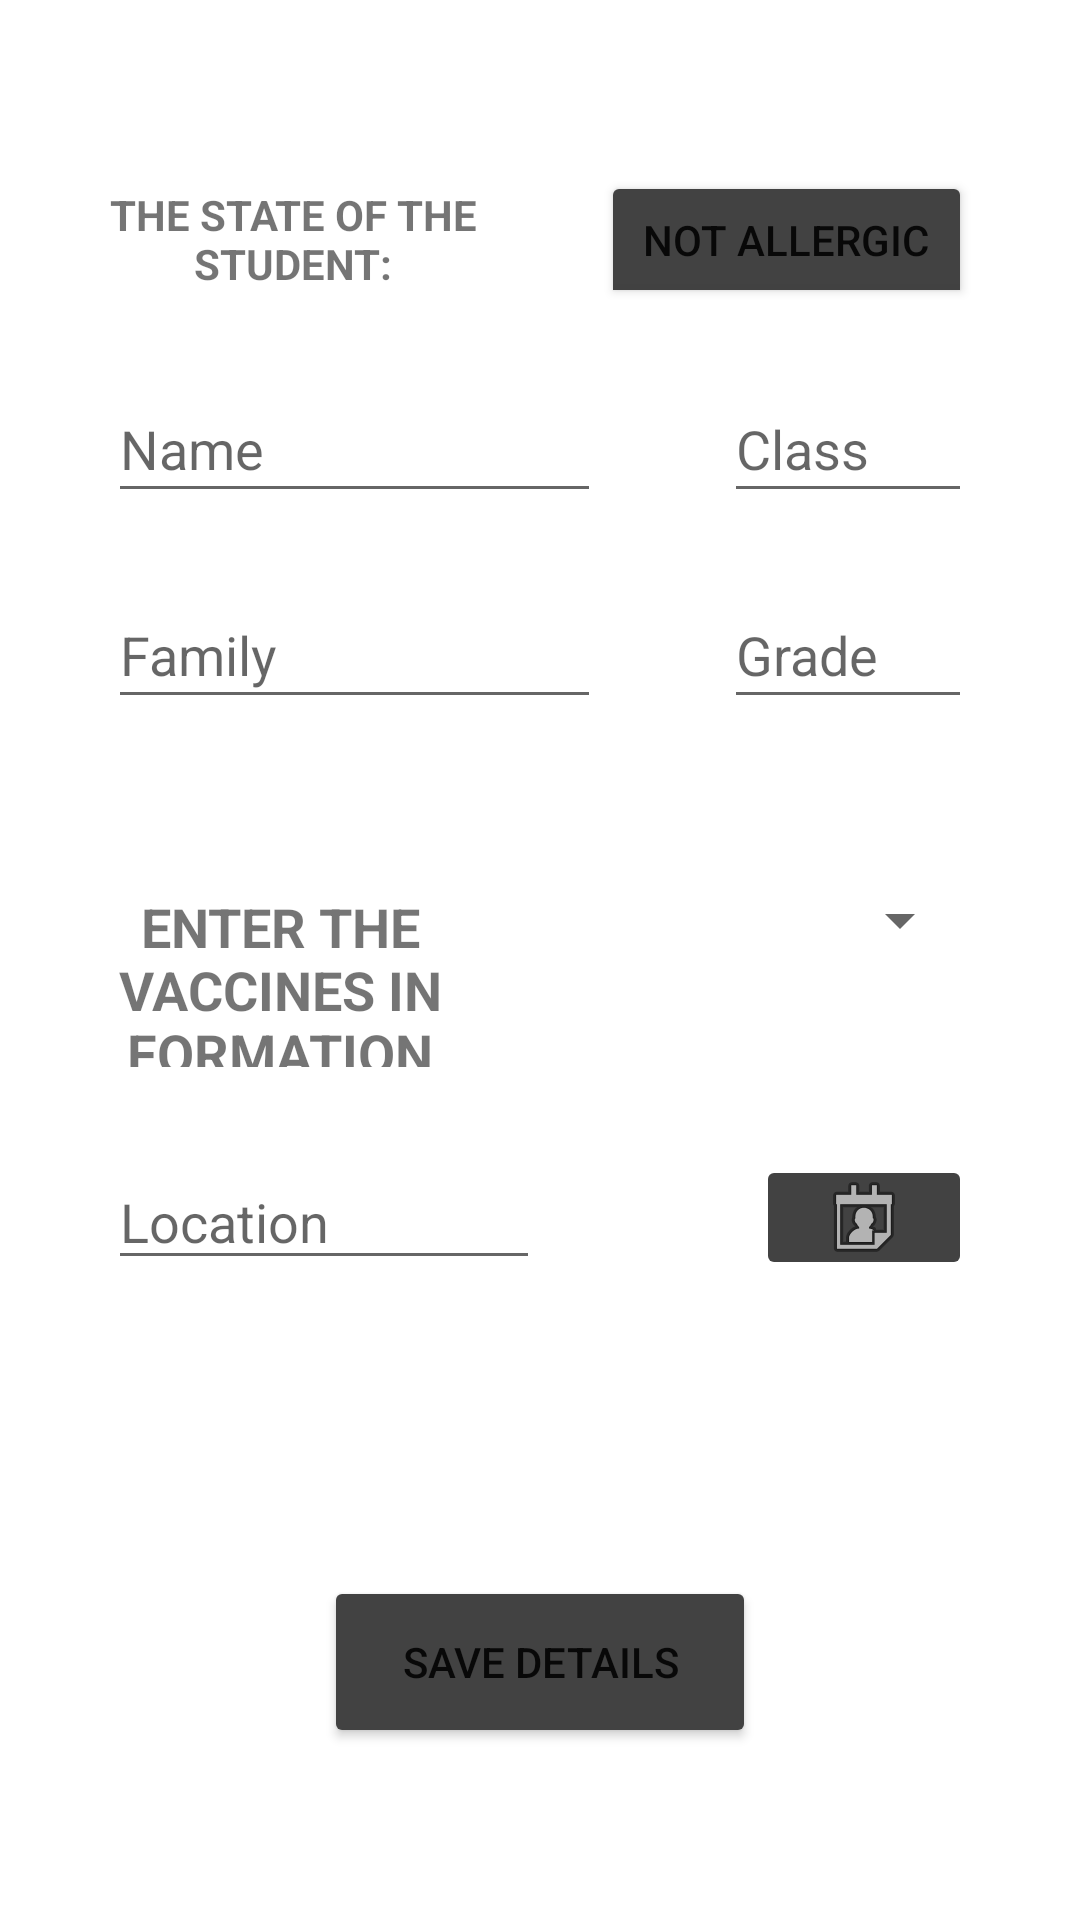

Icons on this 1080*1920 Android screen, each with its box as (x1, y1, x2, y2):
calendar: (768, 1173, 960, 1262)
